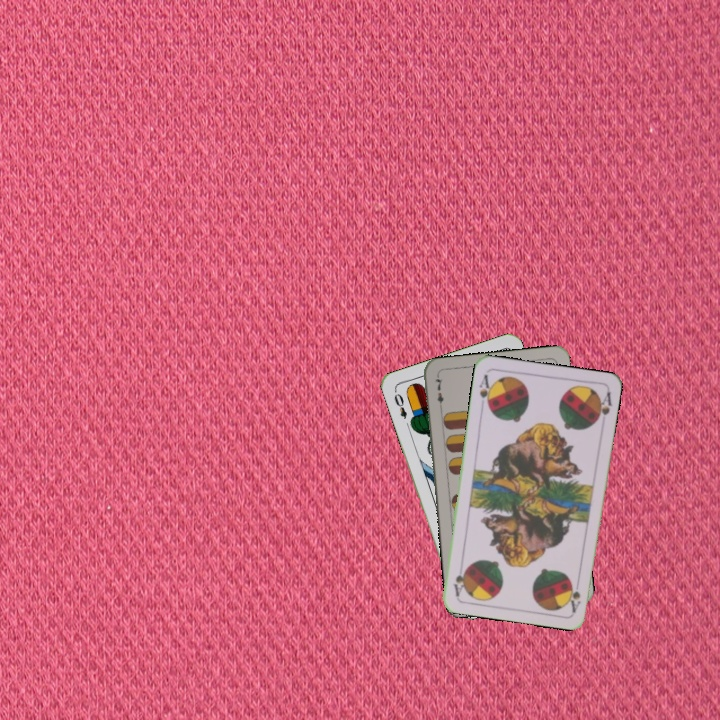E7: (432, 373, 446, 413)
EO: (390, 386, 410, 421)
SA: (475, 370, 495, 411), (566, 574, 583, 614)
